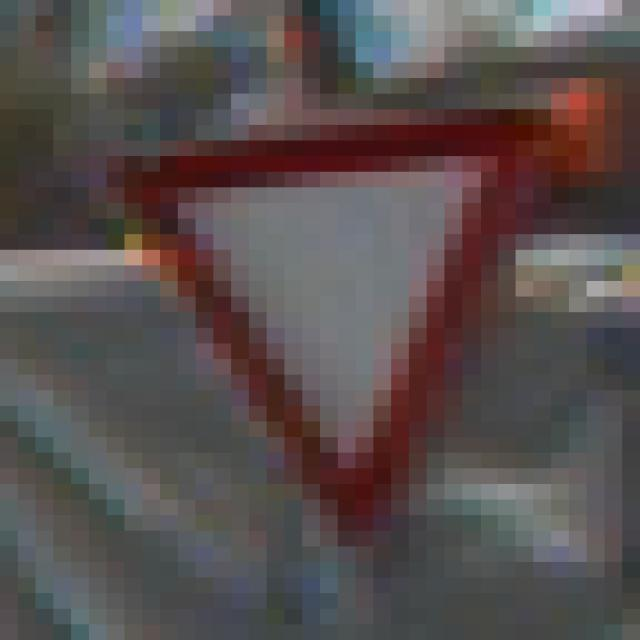Give Way: (90, 95, 552, 563)
